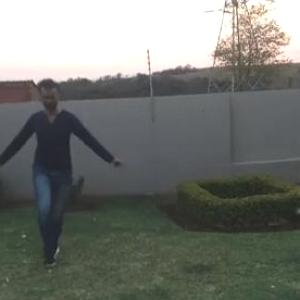land: (1, 81, 104, 244)
